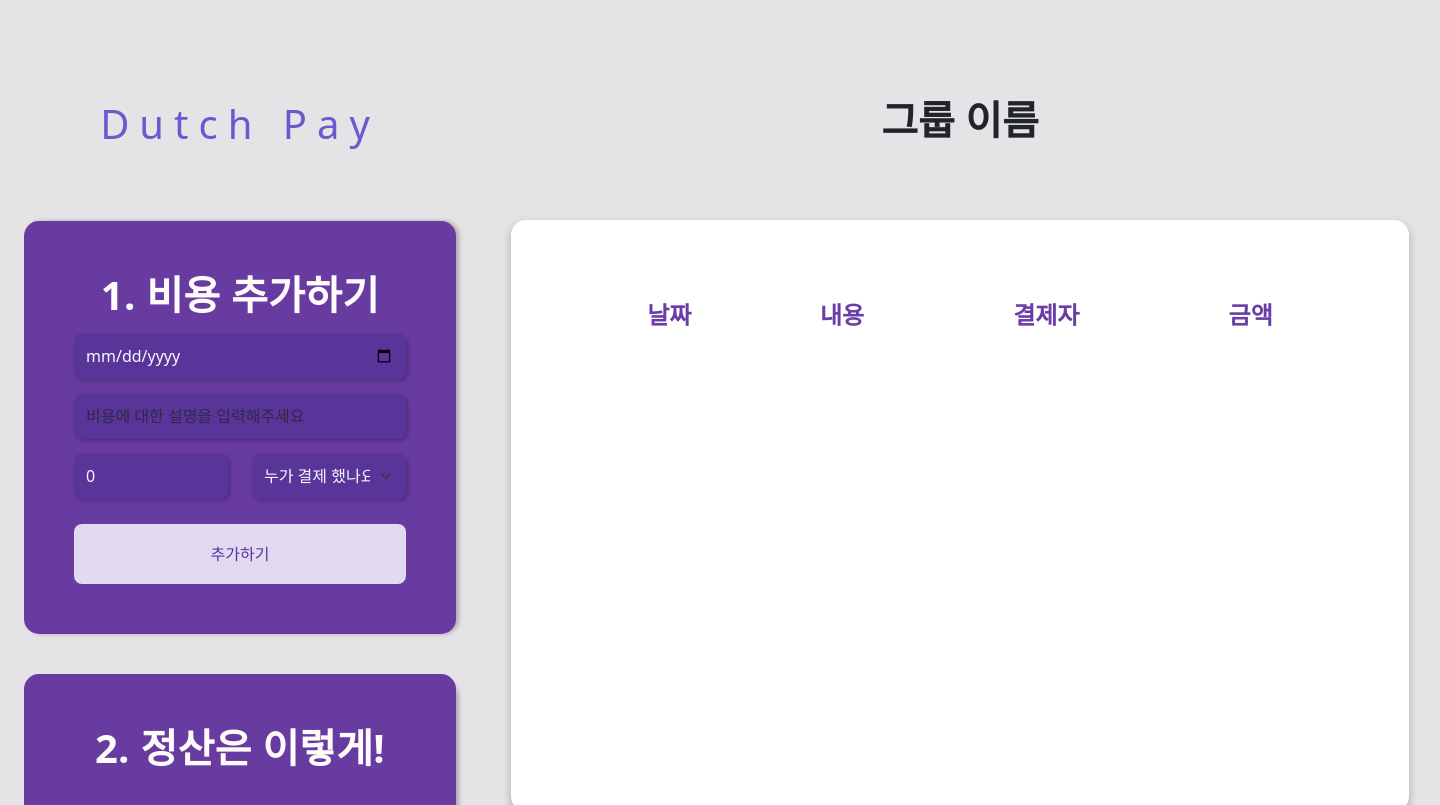
Scenario: 비용정산 메인페이지 › 새로운 비용이 입력됐을 때 › 날짜, 내용, 결제자, 금액 데이터가 정산 리스트에 추가된다
This screenshot has width=1440, height=805.
Type "2024-01-10" into the date field with placeholder "결제한 날짜를 선택해주세요" at (240, 356), box [74, 334, 406, 378]
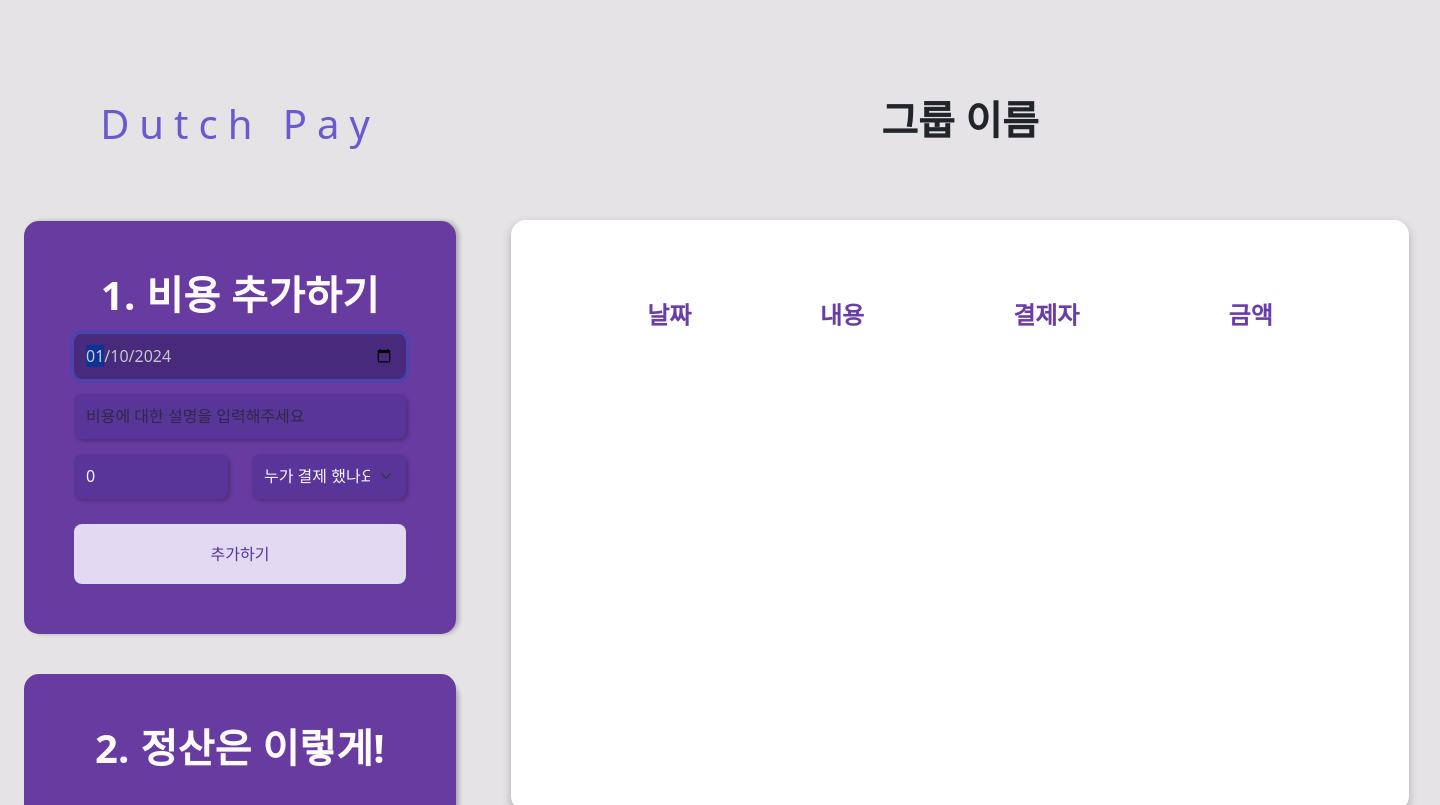
Type "장보기" into the field with placeholder "비용에 대한 설명을 입력해주세요" at (240, 416), box [74, 394, 406, 438]
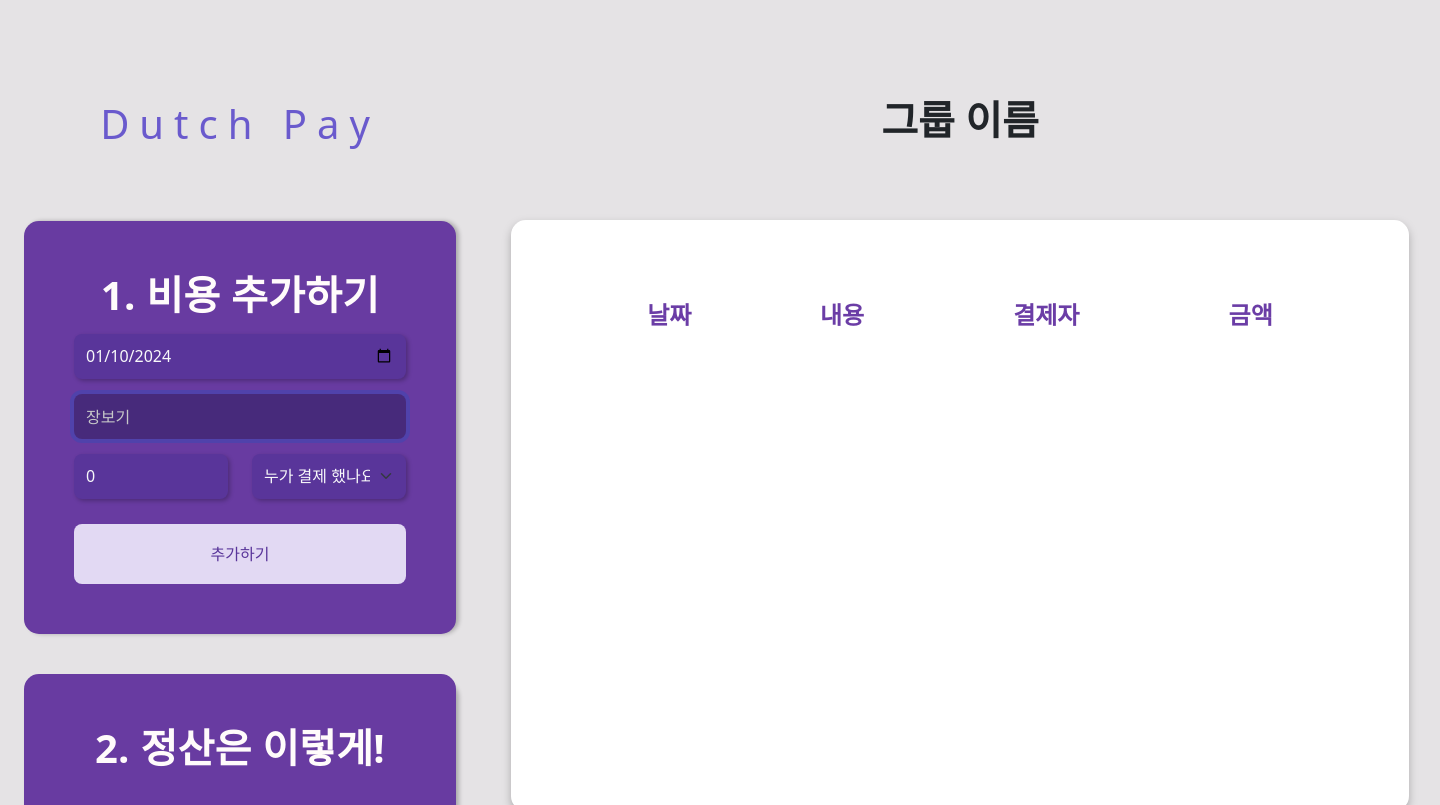
Type "30000" into the number field with placeholder "비용은 얼마였나요?" at (151, 476), box [74, 454, 228, 498]
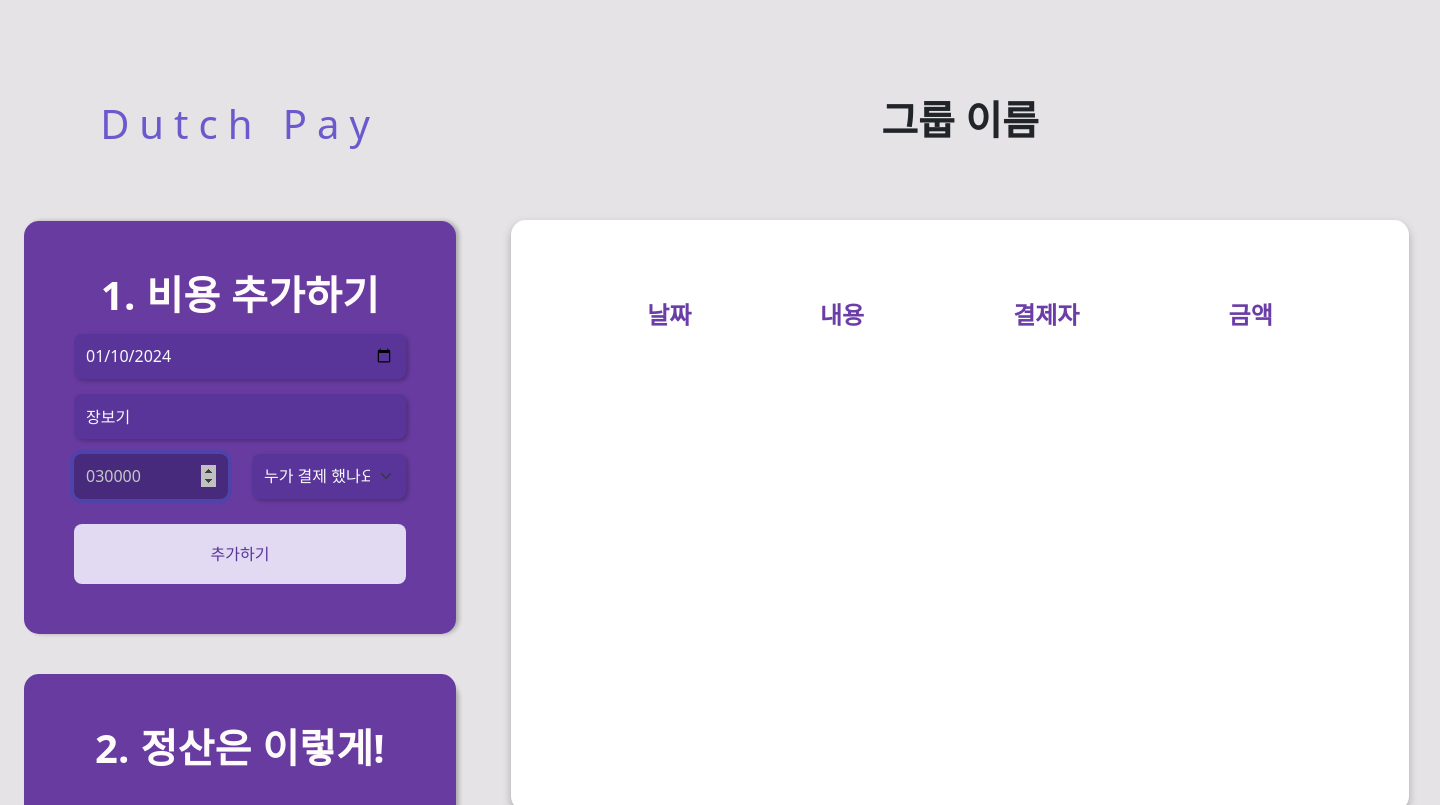
Select "영수" in the dropdown showing "누가 결제" at (329, 476), box [252, 454, 406, 498]
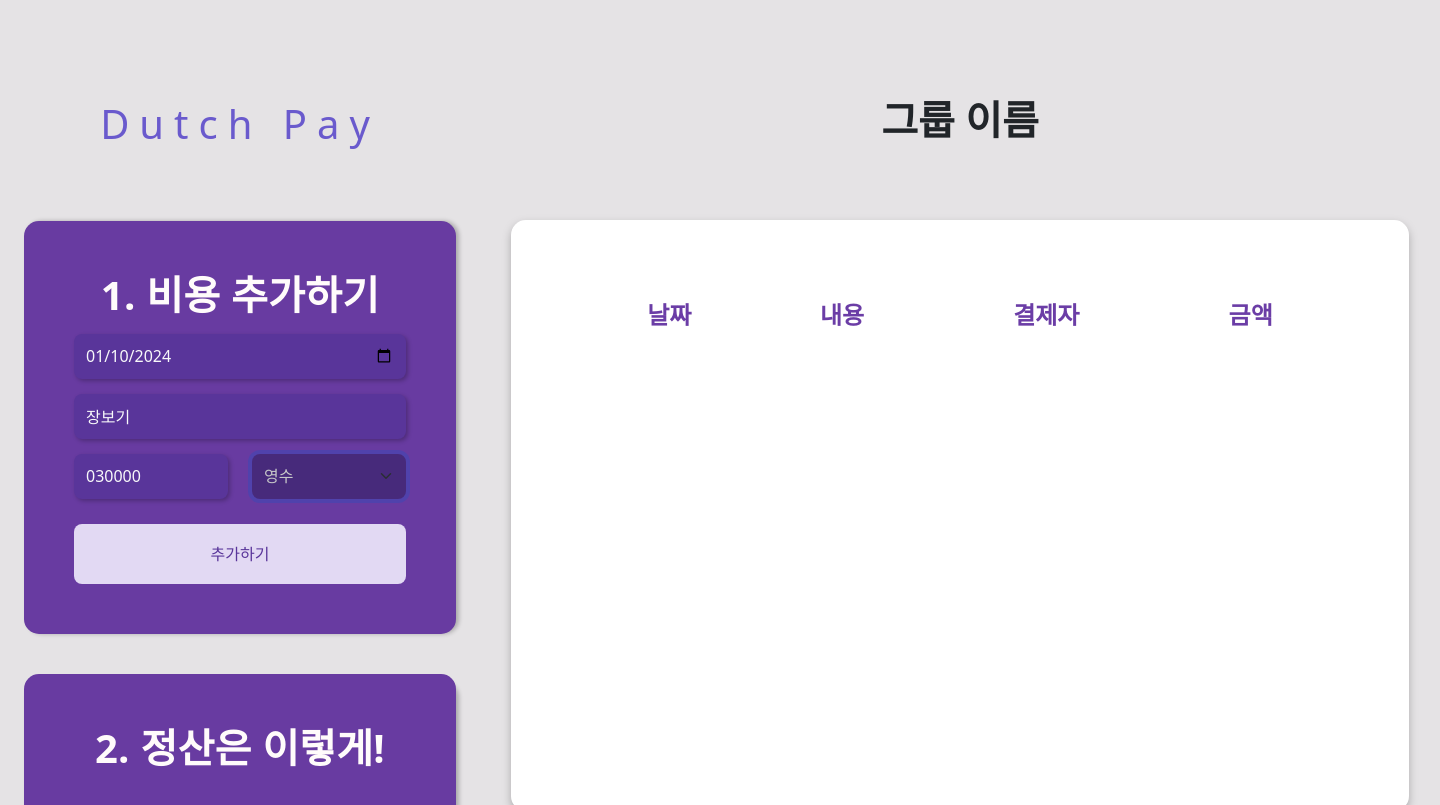
Click the button "추가하기" at (240, 554), box [74, 524, 406, 584]
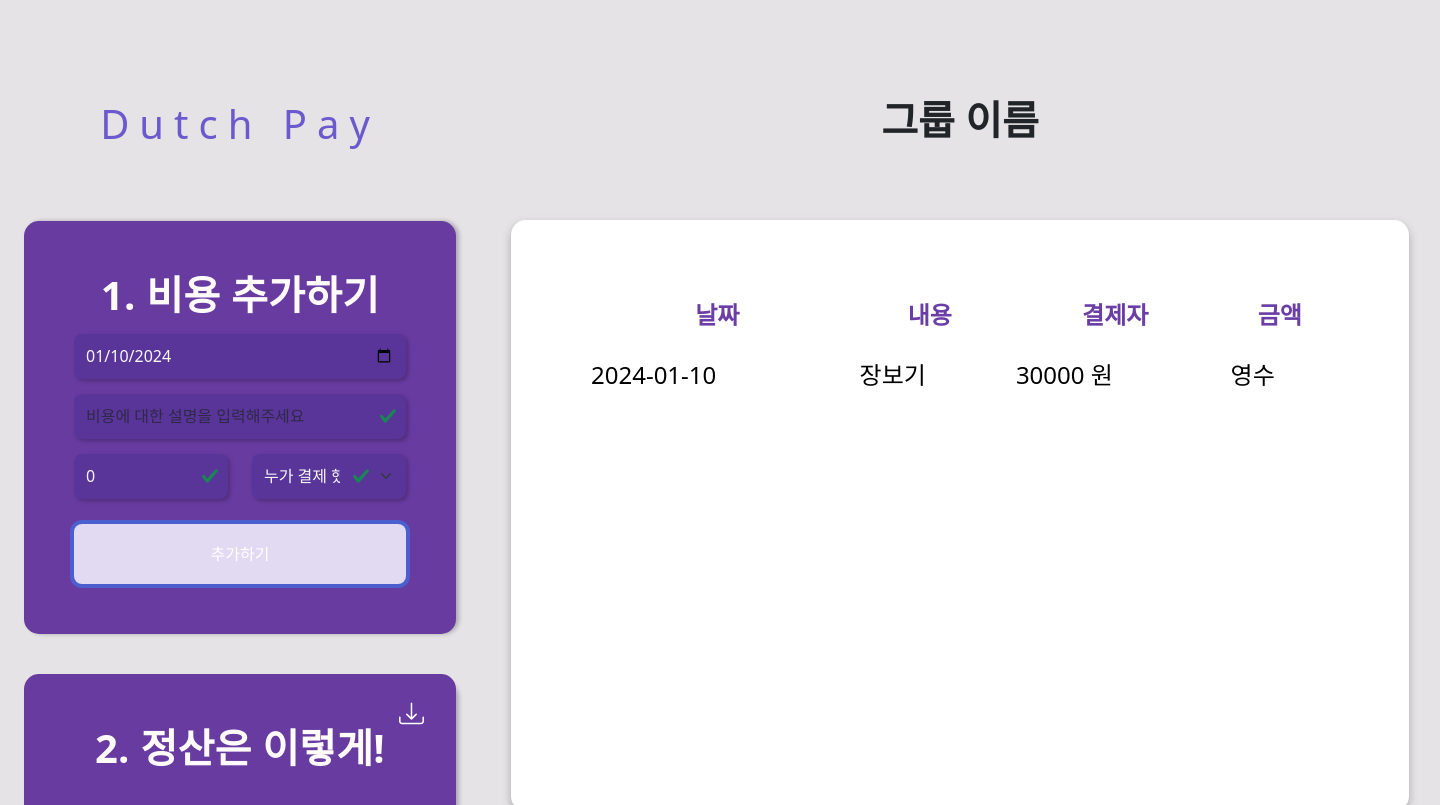
Now the text "2024-01-10" is shown, box [583, 337, 852, 412]
Now the text "장보기" is shown, box [852, 337, 1008, 412]
Now the text "30000 원" is shown, box [1008, 337, 1223, 412]
